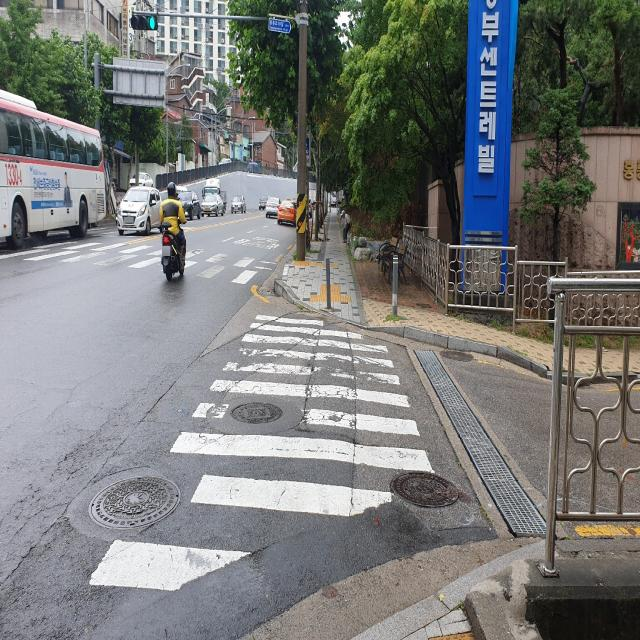횡단보도: (88, 314, 436, 592), (37, 235, 263, 287)
